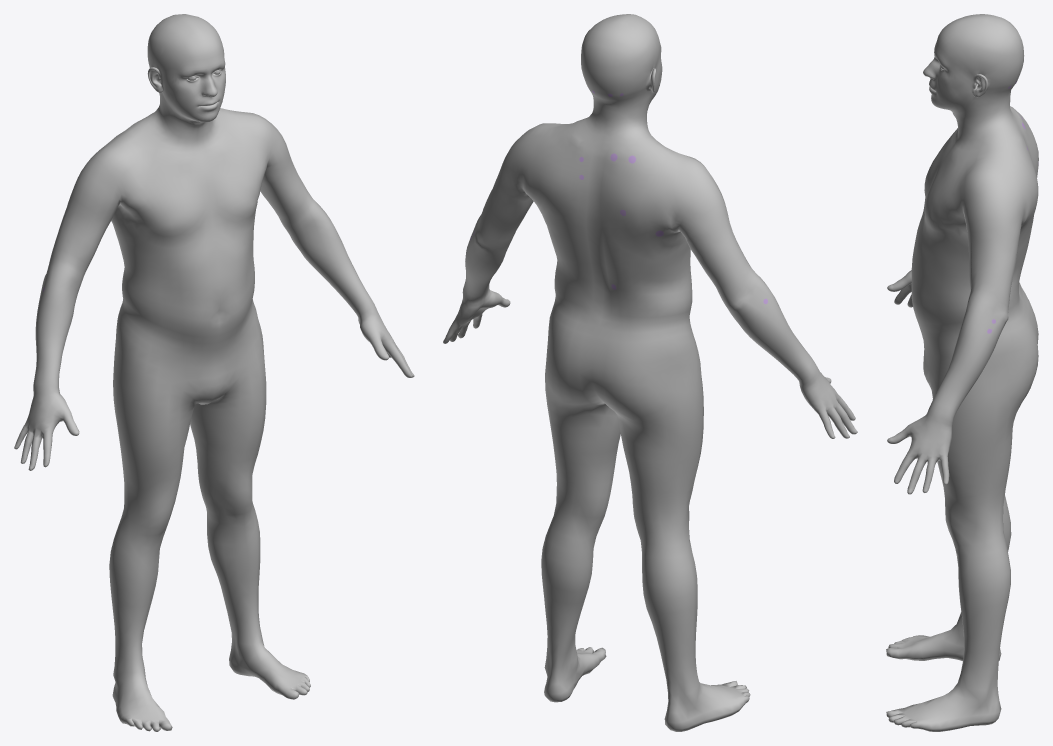
Rendered from 50707780-needles.gltf.
3 renders of one model, left to right at view 1: azimuth 30°, elevation 25°; view 2: azimuth 150°, elevation 25°; view 3: azimuth 270°, elevation 25°, orthographic. The views are drawn at different scales.
Parts seen in each view (by area): view 1: Male 66in 160lbs-A-pose; view 2: Male 66in 160lbs-A-pose; view 3: Male 66in 160lbs-A-pose.
Boxes of the visible parts, x1,y1,x2,y2 form: Male 66in 160lbs-A-pose: (14,14,414,731); Male 66in 160lbs-A-pose: (443,14,857,731); Male 66in 160lbs-A-pose: (886,14,1038,731).
Bounding box in the file's own units: 3.03 × 5.02 × 1.03.
Materials: 1 (1 with a texture image).
